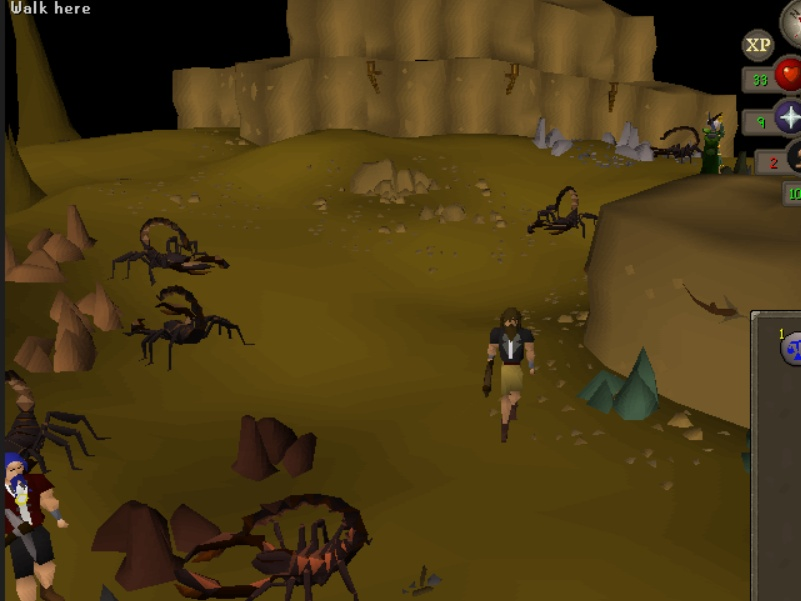adamant: (579, 343, 667, 426)
copper: (13, 294, 98, 376), (23, 201, 103, 262), (47, 285, 129, 336), (1, 236, 82, 287)
iron: (88, 491, 228, 592), (224, 406, 331, 483)
tin: (527, 109, 572, 160), (613, 120, 654, 160)
